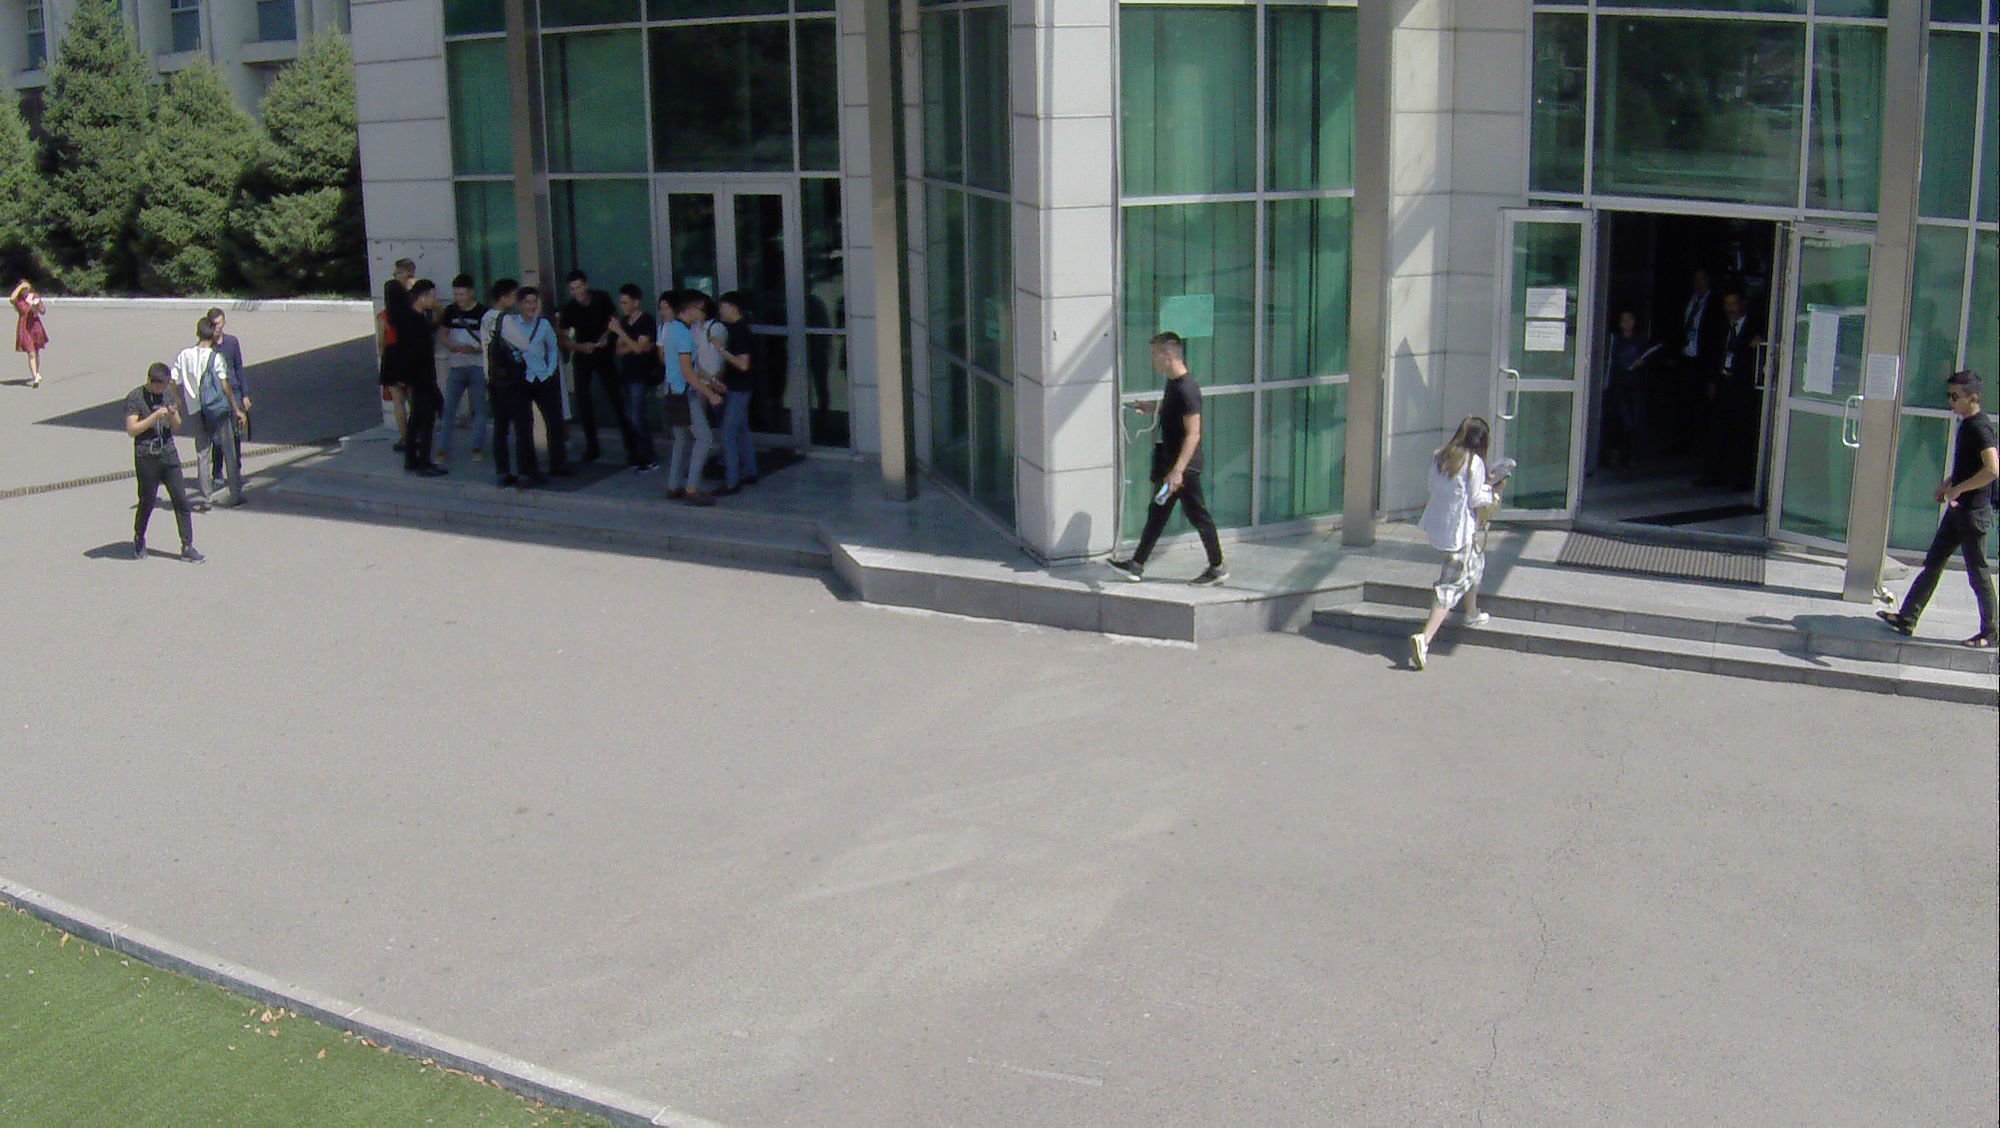person: (1874, 360, 2000, 655), (1395, 385, 1514, 683), (1122, 328, 1249, 597), (110, 364, 214, 572), (553, 263, 643, 468), (656, 281, 717, 510), (437, 271, 497, 479), (481, 275, 538, 490), (395, 275, 456, 475), (609, 278, 667, 481), (503, 285, 565, 474), (713, 286, 766, 497), (166, 324, 230, 503), (191, 297, 251, 476), (3, 272, 51, 401)
